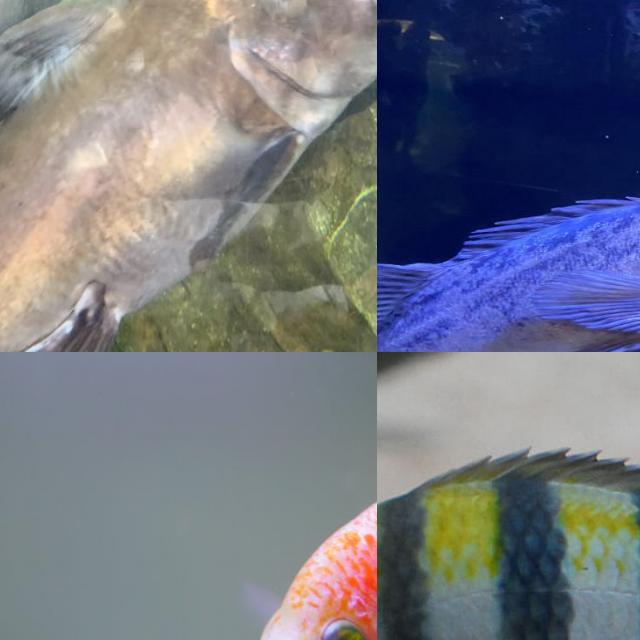fish: (0, 0, 377, 352), (377, 398, 640, 640), (377, 177, 640, 352)
